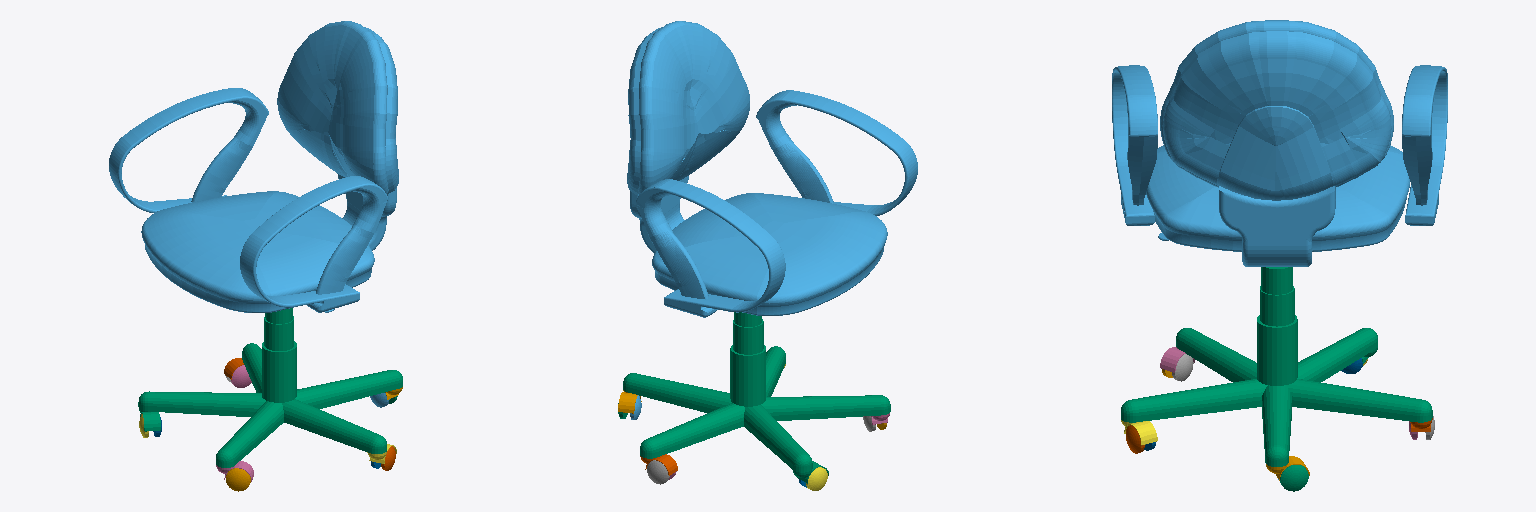
The robot description file, URDF, robot "partnet_85208e245c49fd72349bb1cbbf9a4206":
<?xml version="1.0" ?>
<robot name="partnet_85208e245c49fd72349bb1cbbf9a4206">
	<link name="base"/>
	<link name="link_0">
		<visual name="lever-71">
			<origin xyz="-0.05942911690566691 0.09907077254151031 0"/>
			<geometry>
				<mesh filename="textured_objs/original-81.obj"/>
			</geometry>
		</visual>
		<visual name="lever-71">
			<origin xyz="-0.05942911690566691 0.09907077254151031 0"/>
			<geometry>
				<mesh filename="textured_objs/original-80.obj"/>
			</geometry>
		</visual>
		<collision>
			<origin xyz="-0.05942911690566691 0.09907077254151031 0"/>
			<geometry>
				<mesh filename="textured_objs/original-81.obj"/>
			</geometry>
		</collision>
		<collision>
			<origin xyz="-0.05942911690566691 0.09907077254151031 0"/>
			<geometry>
				<mesh filename="textured_objs/original-80.obj"/>
			</geometry>
		</collision>
	</link>
	<joint name="joint_0" type="revolute">
		<origin xyz="0.039803633868866956 -0.09907077254151031 -0.05357987057050424"/>
		<axis xyz="0 0 -1"/>
		<child link="link_0"/>
		<parent link="link_16"/>
		<limit lower="-0.0" upper="0.2701769682087225"/>
	</joint>
	<link name="link_1">
		<visual name="caster_yoke-68">
			<origin xyz="0.27762114381235 0 -0.4604717425334019"/>
			<geometry>
				<mesh filename="textured_objs/original-44.obj"/>
			</geometry>
		</visual>
		<collision>
			<origin xyz="0.27762114381235 0 -0.4604717425334019"/>
			<geometry>
				<mesh filename="textured_objs/original-44.obj"/>
			</geometry>
		</collision>
	</link>
	<joint name="joint_1" type="continuous">
		<origin xyz="-0.27762114381235 0 0.4604717425334019"/>
		<axis xyz="0 1 0"/>
		<child link="link_1"/>
		<parent link="link_17"/>
	</joint>
	<link name="link_2">
		<visual name="wheel-69">
			<origin xyz="0.037890039741074216 0.7938697105934446 0.014539315185152698"/>
			<geometry>
				<mesh filename="textured_objs/original-49.obj"/>
			</geometry>
		</visual>
		<collision>
			<origin xyz="0.037890039741074216 0.7938697105934446 0.014539315185152698"/>
			<geometry>
				<mesh filename="textured_objs/original-49.obj"/>
			</geometry>
		</collision>
	</link>
	<joint name="joint_2" type="continuous">
		<origin xyz="0.23973110407127576 -0.7938697105934446 -0.4750110577185546"/>
		<axis xyz="-0.35825391836150317 0 0.9336241909776276"/>
		<child link="link_2"/>
		<parent link="link_1"/>
	</joint>
	<link name="link_3">
		<visual name="wheel-70">
			<origin xyz="0.037890039741074216 0.7938697105934446 0.014539315185152698"/>
			<geometry>
				<mesh filename="textured_objs/original-50.obj"/>
			</geometry>
		</visual>
		<collision>
			<origin xyz="0.037890039741074216 0.7938697105934446 0.014539315185152698"/>
			<geometry>
				<mesh filename="textured_objs/original-50.obj"/>
			</geometry>
		</collision>
	</link>
	<joint name="joint_3" type="continuous">
		<origin xyz="0.23973110407127576 -0.7938697105934446 -0.4750110577185546"/>
		<axis xyz="-0.35825391836150317 0 0.9336241909776276"/>
		<child link="link_3"/>
		<parent link="link_1"/>
	</joint>
	<link name="link_4">
		<visual name="caster_yoke-65">
			<origin xyz="0.4601129431451991 0 0.1010477216837205"/>
			<geometry>
				<mesh filename="textured_objs/original-21.obj"/>
			</geometry>
		</visual>
		<collision>
			<origin xyz="0.4601129431451991 0 0.1010477216837205"/>
			<geometry>
				<mesh filename="textured_objs/original-21.obj"/>
			</geometry>
		</collision>
	</link>
	<joint name="joint_4" type="continuous">
		<origin xyz="-0.4601129431451991 0 -0.1010477216837205"/>
		<axis xyz="0 1 0"/>
		<child link="link_4"/>
		<parent link="link_17"/>
	</joint>
	<link name="link_5">
		<visual name="wheel-66">
			<origin xyz="-0.001297155741155071 0.7938695419505147 0.024751762347139085"/>
			<geometry>
				<mesh filename="textured_objs/original-27.obj"/>
			</geometry>
		</visual>
		<collision>
			<origin xyz="-0.001297155741155071 0.7938695419505147 0.024751762347139085"/>
			<geometry>
				<mesh filename="textured_objs/original-27.obj"/>
			</geometry>
		</collision>
	</link>
	<joint name="joint_5" type="continuous">
		<origin xyz="0.4614100988863542 -0.7938695419505147 0.07629595933658143"/>
		<axis xyz="0.9986295963046339 0 0.0523347817846213"/>
		<child link="link_5"/>
		<parent link="link_4"/>
	</joint>
	<link name="link_6">
		<visual name="wheel-67">
			<origin xyz="-0.001297155741155071 0.7938695419505147 0.024751762347139085"/>
			<geometry>
				<mesh filename="textured_objs/original-26.obj"/>
			</geometry>
		</visual>
		<collision>
			<origin xyz="-0.001297155741155071 0.7938695419505147 0.024751762347139085"/>
			<geometry>
				<mesh filename="textured_objs/original-26.obj"/>
			</geometry>
		</collision>
	</link>
	<joint name="joint_6" type="continuous">
		<origin xyz="0.4614100988863542 -0.7938695419505147 0.07629595933658143"/>
		<axis xyz="0.9986295963046339 0 0.0523347817846213"/>
		<child link="link_6"/>
		<parent link="link_4"/>
	</joint>
	<link name="link_7">
		<visual name="caster_yoke-62">
			<origin xyz="-0.017807539735188633 0 0.45046039432058277"/>
			<geometry>
				<mesh filename="textured_objs/original-54.obj"/>
			</geometry>
		</visual>
		<collision>
			<origin xyz="-0.017807539735188633 0 0.45046039432058277"/>
			<geometry>
				<mesh filename="textured_objs/original-54.obj"/>
			</geometry>
		</collision>
	</link>
	<joint name="joint_7" type="continuous">
		<origin xyz="0.017807539735188633 0 -0.45046039432058277"/>
		<axis xyz="0 1 0"/>
		<child link="link_7"/>
		<parent link="link_17"/>
	</joint>
	<link name="link_8">
		<visual name="wheel-63">
			<origin xyz="-0.08035431338107754 0.793869571156856 0.021542977327018344"/>
			<geometry>
				<mesh filename="textured_objs/original-60.obj"/>
			</geometry>
		</visual>
		<collision>
			<origin xyz="-0.08035431338107754 0.793869571156856 0.021542977327018344"/>
			<geometry>
				<mesh filename="textured_objs/original-60.obj"/>
			</geometry>
		</collision>
	</link>
	<joint name="joint_8" type="continuous">
		<origin xyz="0.06254677364588891 -0.793869571156856 0.42891741699356445"/>
		<axis xyz="-0.25895479250880016 0 -0.9658894426572456"/>
		<child link="link_8"/>
		<parent link="link_7"/>
	</joint>
	<link name="link_9">
		<visual name="wheel-64">
			<origin xyz="-0.08035431338107754 0.793869571156856 0.021542977327018344"/>
			<geometry>
				<mesh filename="textured_objs/original-59.obj"/>
			</geometry>
		</visual>
		<collision>
			<origin xyz="-0.08035431338107754 0.793869571156856 0.021542977327018344"/>
			<geometry>
				<mesh filename="textured_objs/original-59.obj"/>
			</geometry>
		</collision>
	</link>
	<joint name="joint_9" type="continuous">
		<origin xyz="0.06254677364588891 -0.793869571156856 0.42891741699356445"/>
		<axis xyz="-0.25895479250880016 0 -0.9658894426572456"/>
		<child link="link_9"/>
		<parent link="link_7"/>
	</joint>
	<link name="link_10">
		<visual name="caster_yoke-59">
			<origin xyz="-0.49773299713864 0 0.10380047427306"/>
			<geometry>
				<mesh filename="textured_objs/original-65.obj"/>
			</geometry>
		</visual>
		<collision>
			<origin xyz="-0.49773299713864 0 0.10380047427306"/>
			<geometry>
				<mesh filename="textured_objs/original-65.obj"/>
			</geometry>
		</collision>
	</link>
	<joint name="joint_10" type="continuous">
		<origin xyz="0.49773299713864 0 -0.10380047427306"/>
		<axis xyz="0 1 0"/>
		<child link="link_10"/>
		<parent link="link_17"/>
	</joint>
	<link name="link_11">
		<visual name="wheel-60">
			<origin xyz="-0.07284993647796319 0.7938695300918053 -0.11214619851688978"/>
			<geometry>
				<mesh filename="textured_objs/original-71.obj"/>
			</geometry>
		</visual>
		<collision>
			<origin xyz="-0.07284993647796319 0.7938695300918053 -0.11214619851688978"/>
			<geometry>
				<mesh filename="textured_objs/original-71.obj"/>
			</geometry>
		</collision>
	</link>
	<joint name="joint_11" type="continuous">
		<origin xyz="-0.4248830606606768 -0.7938695300918053 0.21594667278994978"/>
		<axis xyz="0.8385976703861352 0 -0.5447512709695563"/>
		<child link="link_11"/>
		<parent link="link_10"/>
	</joint>
	<link name="link_12">
		<visual name="wheel-61">
			<origin xyz="-0.07284993647796319 0.7938695300918053 -0.11214619851688978"/>
			<geometry>
				<mesh filename="textured_objs/original-70.obj"/>
			</geometry>
		</visual>
		<collision>
			<origin xyz="-0.07284993647796319 0.7938695300918053 -0.11214619851688978"/>
			<geometry>
				<mesh filename="textured_objs/original-70.obj"/>
			</geometry>
		</collision>
	</link>
	<joint name="joint_12" type="continuous">
		<origin xyz="-0.4248830606606768 -0.7938695300918053 0.21594667278994978"/>
		<axis xyz="0.8385976703861352 0 -0.5447512709695563"/>
		<child link="link_12"/>
		<parent link="link_10"/>
	</joint>
	<link name="link_13">
		<visual name="caster_yoke-56">
			<origin xyz="-0.316718283375338 0 -0.4607782518909"/>
			<geometry>
				<mesh filename="textured_objs/original-32.obj"/>
			</geometry>
		</visual>
		<collision>
			<origin xyz="-0.316718283375338 0 -0.4607782518909"/>
			<geometry>
				<mesh filename="textured_objs/original-32.obj"/>
			</geometry>
		</collision>
	</link>
	<joint name="joint_13" type="continuous">
		<origin xyz="0.316718283375338 0 0.4607782518909"/>
		<axis xyz="0 1 0"/>
		<child link="link_13"/>
		<parent link="link_17"/>
	</joint>
	<link name="link_14">
		<visual name="wheel-57">
			<origin xyz="0.06758393083346312 0.7938695987611898 -0.08348495097889601"/>
			<geometry>
				<mesh filename="textured_objs/original-38.obj"/>
			</geometry>
		</visual>
		<collision>
			<origin xyz="0.06758393083346312 0.7938695987611898 -0.08348495097889601"/>
			<geometry>
				<mesh filename="textured_objs/original-38.obj"/>
			</geometry>
		</collision>
	</link>
	<joint name="joint_14" type="continuous">
		<origin xyz="-0.38430221420880106 -0.7938695987611898 -0.37729330091200397"/>
		<axis xyz="-0.7772408943891498 0 -0.6292031405588777"/>
		<child link="link_14"/>
		<parent link="link_13"/>
	</joint>
	<link name="link_15">
		<visual name="wheel-58">
			<origin xyz="0.06758393083346312 0.7938695987611898 -0.08348495097889601"/>
			<geometry>
				<mesh filename="textured_objs/original-37.obj"/>
			</geometry>
		</visual>
		<collision>
			<origin xyz="0.06758393083346312 0.7938695987611898 -0.08348495097889601"/>
			<geometry>
				<mesh filename="textured_objs/original-37.obj"/>
			</geometry>
		</collision>
	</link>
	<joint name="joint_15" type="continuous">
		<origin xyz="-0.38430221420880106 -0.7938695987611898 -0.37729330091200397"/>
		<axis xyz="-0.7772408943891498 0 -0.6292031405588777"/>
		<child link="link_15"/>
		<parent link="link_13"/>
	</joint>
	<link name="link_16">
		<visual name="arm_holistic_frame-82">
			<origin xyz="-0.019625483036799955 0 -0.05357987057050424"/>
			<geometry>
				<mesh filename="textured_objs/new-2.obj"/>
			</geometry>
		</visual>
		<visual name="arm_holistic_frame-82">
			<origin xyz="-0.019625483036799955 0 -0.05357987057050424"/>
			<geometry>
				<mesh filename="textured_objs/new-1.obj"/>
			</geometry>
		</visual>
		<visual name="arm_holistic_frame-81">
			<origin xyz="-0.019625483036799955 0 -0.05357987057050424"/>
			<geometry>
				<mesh filename="textured_objs/new-3.obj"/>
			</geometry>
		</visual>
		<visual name="arm_holistic_frame-81">
			<origin xyz="-0.019625483036799955 0 -0.05357987057050424"/>
			<geometry>
				<mesh filename="textured_objs/new-0.obj"/>
			</geometry>
		</visual>
		<visual name="back_soft_surface-86">
			<origin xyz="-0.019625483036799955 0 -0.05357987057050424"/>
			<geometry>
				<mesh filename="textured_objs/original-12.obj"/>
			</geometry>
		</visual>
		<visual name="back_support-84">
			<origin xyz="-0.019625483036799955 0 -0.05357987057050424"/>
			<geometry>
				<mesh filename="textured_objs/original-9.obj"/>
			</geometry>
		</visual>
		<visual name="back_connector-85">
			<origin xyz="-0.019625483036799955 0 -0.05357987057050424"/>
			<geometry>
				<mesh filename="textured_objs/original-16.obj"/>
			</geometry>
		</visual>
		<visual name="back_connector-85">
			<origin xyz="-0.019625483036799955 0 -0.05357987057050424"/>
			<geometry>
				<mesh filename="textured_objs/original-7.obj"/>
			</geometry>
		</visual>
		<visual name="back_support-87">
			<origin xyz="-0.019625483036799955 0 -0.05357987057050424"/>
			<geometry>
				<mesh filename="textured_objs/original-11.obj"/>
			</geometry>
		</visual>
		<visual name="seat_soft_surface-80">
			<origin xyz="-0.019625483036799955 0 -0.05357987057050424"/>
			<geometry>
				<mesh filename="textured_objs/original-14.obj"/>
			</geometry>
		</visual>
		<visual name="seat_support-79">
			<origin xyz="-0.019625483036799955 0 -0.05357987057050424"/>
			<geometry>
				<mesh filename="textured_objs/original-15.obj"/>
			</geometry>
		</visual>
		<visual name="central_support-42">
			<origin xyz="-0.019625483036799955 0 -0.05357987057050424"/>
			<geometry>
				<mesh filename="textured_objs/original-77.obj"/>
			</geometry>
		</visual>
		<visual name="central_support-43">
			<origin xyz="-0.019625483036799955 0 -0.05357987057050424"/>
			<geometry>
				<mesh filename="textured_objs/original-76.obj"/>
			</geometry>
		</visual>
		<visual name="mounting_plate-72">
			<origin xyz="-0.019625483036799955 0 -0.05357987057050424"/>
			<geometry>
				<mesh filename="textured_objs/original-83.obj"/>
			</geometry>
		</visual>
		<collision>
			<origin xyz="-0.019625483036799955 0 -0.05357987057050424"/>
			<geometry>
				<mesh filename="textured_objs/new-2.obj"/>
			</geometry>
		</collision>
		<collision>
			<origin xyz="-0.019625483036799955 0 -0.05357987057050424"/>
			<geometry>
				<mesh filename="textured_objs/new-1.obj"/>
			</geometry>
		</collision>
		<collision>
			<origin xyz="-0.019625483036799955 0 -0.05357987057050424"/>
			<geometry>
				<mesh filename="textured_objs/new-3.obj"/>
			</geometry>
		</collision>
		<collision>
			<origin xyz="-0.019625483036799955 0 -0.05357987057050424"/>
			<geometry>
				<mesh filename="textured_objs/new-0.obj"/>
			</geometry>
		</collision>
		<collision>
			<origin xyz="-0.019625483036799955 0 -0.05357987057050424"/>
			<geometry>
				<mesh filename="textured_objs/original-12.obj"/>
			</geometry>
		</collision>
		<collision>
			<origin xyz="-0.019625483036799955 0 -0.05357987057050424"/>
			<geometry>
				<mesh filename="textured_objs/original-9.obj"/>
			</geometry>
		</collision>
		<collision>
			<origin xyz="-0.019625483036799955 0 -0.05357987057050424"/>
			<geometry>
				<mesh filename="textured_objs/original-16.obj"/>
			</geometry>
		</collision>
		<collision>
			<origin xyz="-0.019625483036799955 0 -0.05357987057050424"/>
			<geometry>
				<mesh filename="textured_objs/original-7.obj"/>
			</geometry>
		</collision>
		<collision>
			<origin xyz="-0.019625483036799955 0 -0.05357987057050424"/>
			<geometry>
				<mesh filename="textured_objs/original-11.obj"/>
			</geometry>
		</collision>
		<collision>
			<origin xyz="-0.019625483036799955 0 -0.05357987057050424"/>
			<geometry>
				<mesh filename="textured_objs/original-14.obj"/>
			</geometry>
		</collision>
		<collision>
			<origin xyz="-0.019625483036799955 0 -0.05357987057050424"/>
			<geometry>
				<mesh filename="textured_objs/original-15.obj"/>
			</geometry>
		</collision>
		<collision>
			<origin xyz="-0.019625483036799955 0 -0.05357987057050424"/>
			<geometry>
				<mesh filename="textured_objs/original-77.obj"/>
			</geometry>
		</collision>
		<collision>
			<origin xyz="-0.019625483036799955 0 -0.05357987057050424"/>
			<geometry>
				<mesh filename="textured_objs/original-76.obj"/>
			</geometry>
		</collision>
		<collision>
			<origin xyz="-0.019625483036799955 0 -0.05357987057050424"/>
			<geometry>
				<mesh filename="textured_objs/original-83.obj"/>
			</geometry>
		</collision>
	</link>
	<joint name="joint_16" type="continuous">
		<origin xyz="0.0 0 0.0"/>
		<axis xyz="0 -1 0"/>
		<child link="link_16"/>
		<parent link="link_16_helper"/>
	</joint>
	<link name="link_17">
		<visual name="central_support-40">
			<origin xyz="0 0 0"/>
			<geometry>
				<mesh filename="textured_objs/original-75.obj"/>
			</geometry>
		</visual>
		<visual name="central_support-41">
			<origin xyz="0 0 0"/>
			<geometry>
				<mesh filename="textured_objs/new-4.obj"/>
			</geometry>
		</visual>
		<visual name="central_support-88">
			<origin xyz="0 0 0"/>
			<geometry>
				<mesh filename="textured_objs/new-5.obj"/>
			</geometry>
		</visual>
		<visual name="leg-46">
			<origin xyz="0 0 0"/>
			<geometry>
				<mesh filename="textured_objs/original-28.obj"/>
			</geometry>
		</visual>
		<visual name="leg-47">
			<origin xyz="0 0 0"/>
			<geometry>
				<mesh filename="textured_objs/original-61.obj"/>
			</geometry>
		</visual>
		<visual name="leg-48">
			<origin xyz="0 0 0"/>
			<geometry>
				<mesh filename="textured_objs/original-72.obj"/>
			</geometry>
		</visual>
		<visual name="leg-49">
			<origin xyz="0 0 0"/>
			<geometry>
				<mesh filename="textured_objs/original-39.obj"/>
			</geometry>
		</visual>
		<visual name="leg-50">
			<origin xyz="0 0 0"/>
			<geometry>
				<mesh filename="textured_objs/original-41.obj"/>
			</geometry>
		</visual>
		<collision>
			<origin xyz="0 0 0"/>
			<geometry>
				<mesh filename="textured_objs/original-75.obj"/>
			</geometry>
		</collision>
		<collision>
			<origin xyz="0 0 0"/>
			<geometry>
				<mesh filename="textured_objs/new-4.obj"/>
			</geometry>
		</collision>
		<collision>
			<origin xyz="0 0 0"/>
			<geometry>
				<mesh filename="textured_objs/new-5.obj"/>
			</geometry>
		</collision>
		<collision>
			<origin xyz="0 0 0"/>
			<geometry>
				<mesh filename="textured_objs/original-28.obj"/>
			</geometry>
		</collision>
		<collision>
			<origin xyz="0 0 0"/>
			<geometry>
				<mesh filename="textured_objs/original-61.obj"/>
			</geometry>
		</collision>
		<collision>
			<origin xyz="0 0 0"/>
			<geometry>
				<mesh filename="textured_objs/original-72.obj"/>
			</geometry>
		</collision>
		<collision>
			<origin xyz="0 0 0"/>
			<geometry>
				<mesh filename="textured_objs/original-39.obj"/>
			</geometry>
		</collision>
		<collision>
			<origin xyz="0 0 0"/>
			<geometry>
				<mesh filename="textured_objs/original-41.obj"/>
			</geometry>
		</collision>
	</link>
	<joint name="joint_17" type="fixed">
		<origin rpy="1.570796326794897 0 -1.570796326794897" xyz="0 0 0"/>
		<child link="link_17"/>
		<parent link="base"/>
	</joint>
	<link name="link_16_helper"/>
	<joint name="joint_18" type="prismatic">
		<origin xyz="0.019625483036799955 0 0.05357987057050424"/>
		<axis xyz="0 -1 0"/>
		<child link="link_16_helper"/>
		<parent link="link_17"/>
		<limit lower="0" upper="0.052000000000000046"/>
	</joint>
</robot>

--- Render facts (derived) ---
Views: 3 orthographic renders of the robot side by side, from view 1: azimuth 30°, elevation 25°; view 2: azimuth 150°, elevation 25°; view 3: azimuth 270°, elevation 25°.
Robot: partnet_85208e245c49fd72349bb1cbbf9a4206 — 20 links, 19 joints (1 revolute, 16 continuous, 1 prismatic, 1 fixed); root link base; default pose: all joints at 0.
Links seen in each view (by area): view 1: link_16, link_17; view 2: link_16, link_17; view 3: link_16, link_17, link_9.
Boxes of the visible links, x1,y1,x2,y2 form: link_16: [109, 21, 398, 312]; link_17: [138, 308, 402, 467]; link_16: [627, 21, 917, 317]; link_17: [623, 312, 890, 472]; link_16: [1112, 20, 1447, 266]; link_17: [1121, 267, 1432, 466]; link_9: [1280, 465, 1308, 491].
Bounding box of the posed robot: 1.03 × 1.12 × 1.65 m (x, y, z).
39 mesh visuals loaded from 39 distinct referenced files (39 OBJ).
